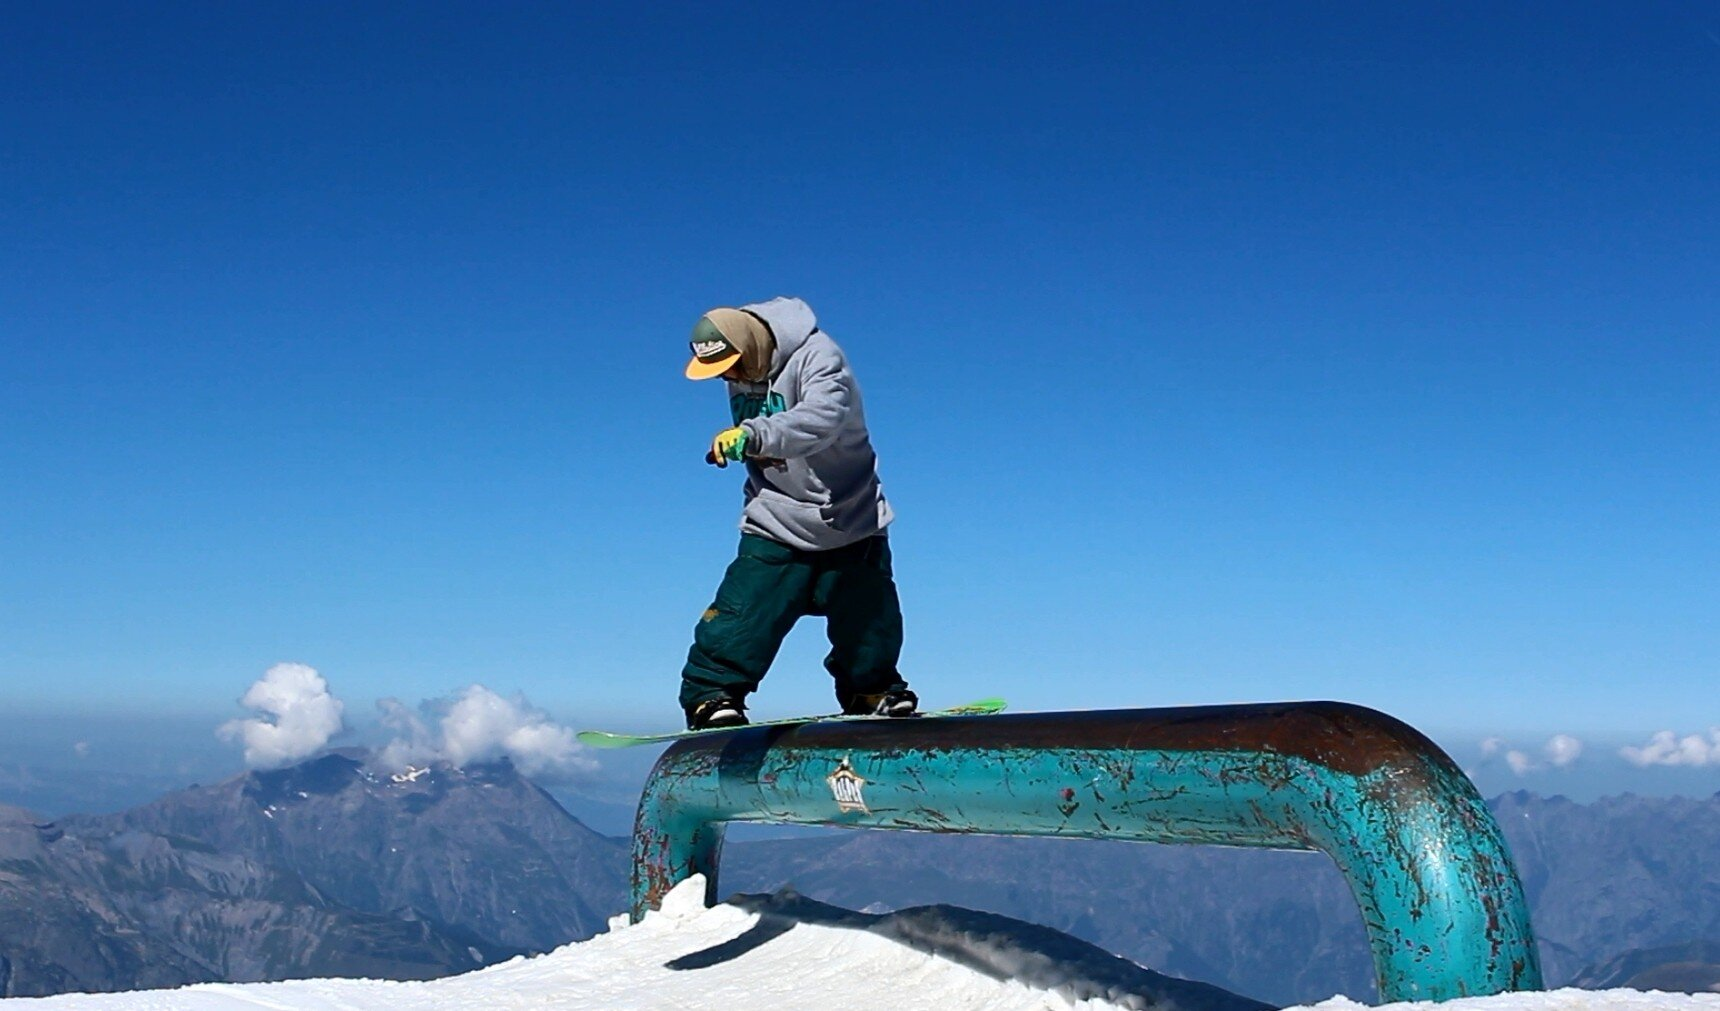snowboarder: (566, 296, 1011, 753)
